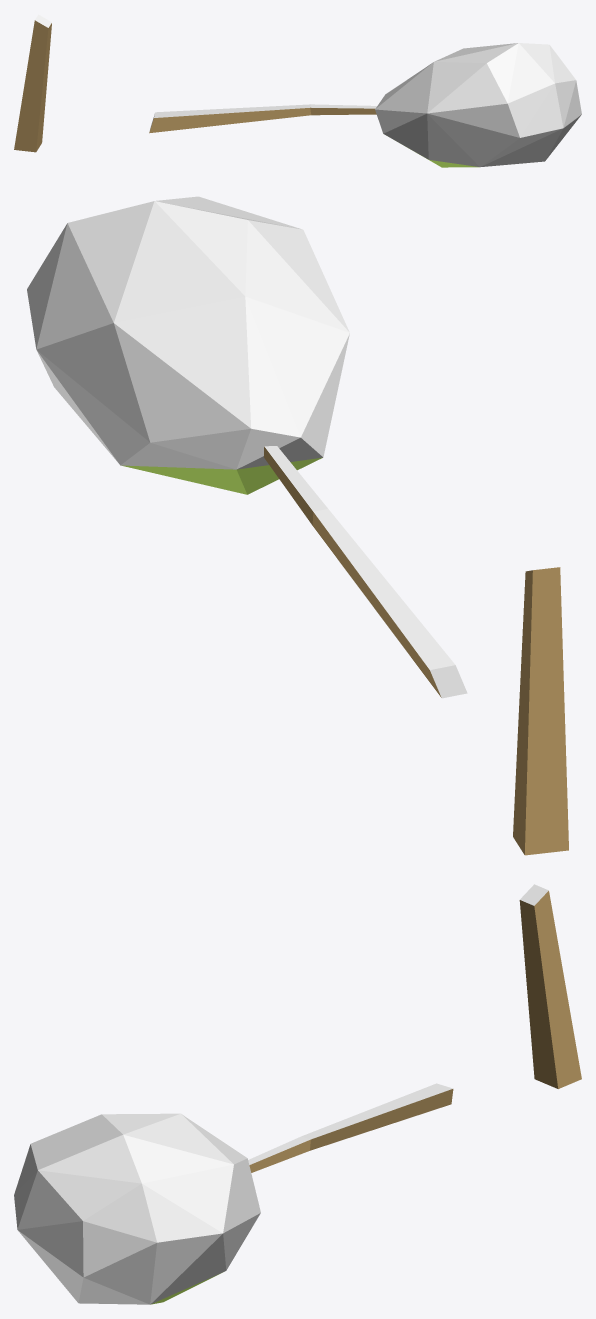
Rendered from Simple_Tree_crk_s_Snow_03.fbx.
The picture shows the model from 3 angles, top to bottom: view 1: azimuth 30°, elevation 25°; view 2: azimuth 150°, elevation 25°; view 3: azimuth 270°, elevation 25°; orthographic projection. The views are drawn at different scales.
Parts seen in each view (by area): view 1: Simple_Tree_crk_s_Snow_03; view 2: Simple_Tree_crk_s_Snow_03; view 3: Simple_Tree_crk_s_Snow_03.
Part boxes in pixels (bbox=[...]): Simple_Tree_crk_s_Snow_03: bbox=[14, 14, 581, 167]; Simple_Tree_crk_s_Snow_03: bbox=[27, 196, 568, 855]; Simple_Tree_crk_s_Snow_03: bbox=[14, 884, 581, 1304].
Size of the model in its own units: 325 by 101 by 268.
